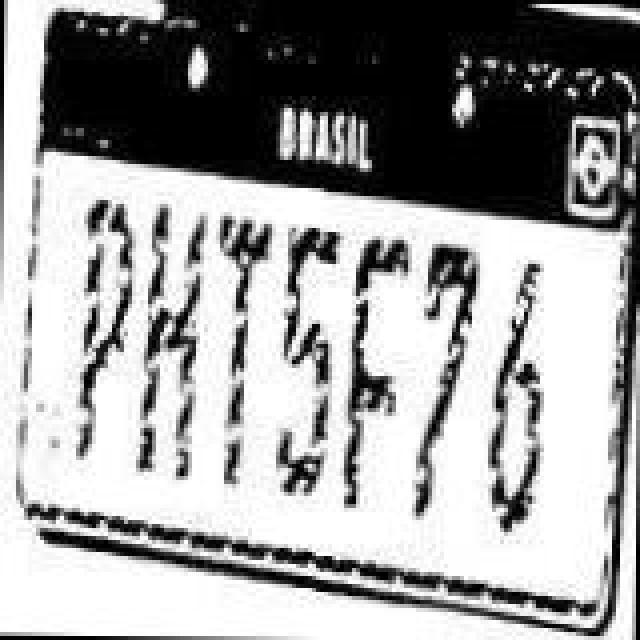5: (266, 216, 342, 496)
6: (478, 256, 558, 536)
7: (408, 244, 484, 528)
F: (338, 222, 414, 506)
H: (134, 190, 202, 478)
P: (72, 188, 136, 460)
T: (204, 210, 276, 490)
